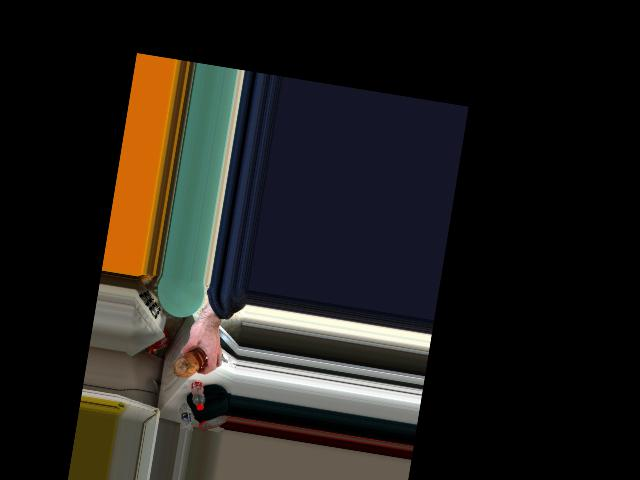sweet_potato: (174, 342, 207, 379)
